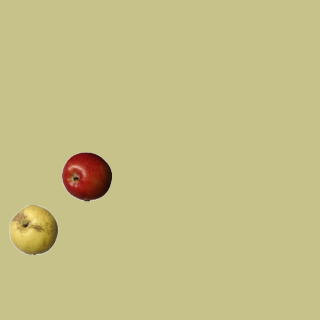Apple Braeburn: (61, 151, 111, 201)
Apple Golden 1: (8, 204, 58, 254)
